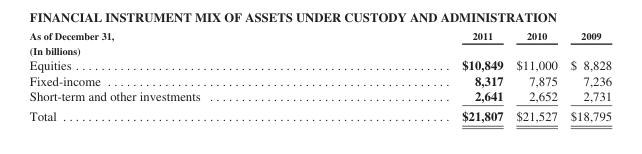table: (28, 29, 611, 123)
table column: (28, 29, 330, 123), (330, 29, 509, 123), (509, 29, 563, 123), (563, 29, 611, 123)
table column header: (28, 29, 611, 42)
table projected row header: (28, 42, 611, 56)
table row: (28, 87, 611, 105), (28, 105, 611, 123), (28, 56, 611, 72), (28, 72, 611, 87), (28, 42, 611, 56), (28, 29, 611, 42)
